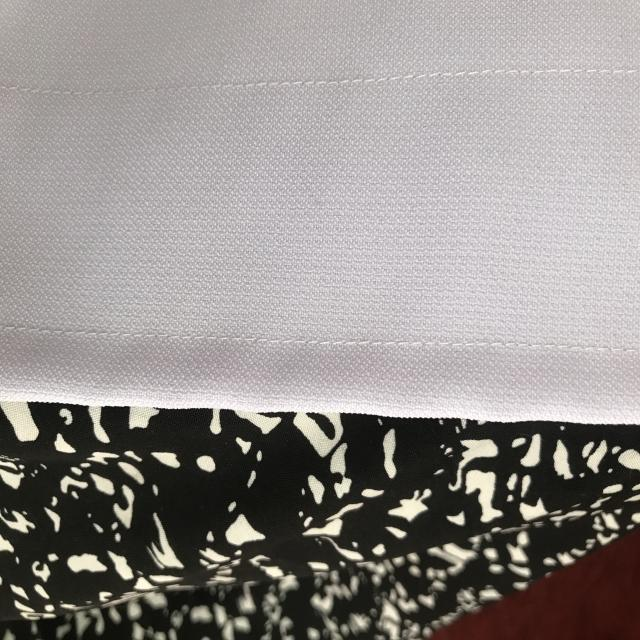good: (221, 325, 378, 366), (28, 315, 167, 352), (246, 70, 380, 103), (416, 60, 545, 90)
